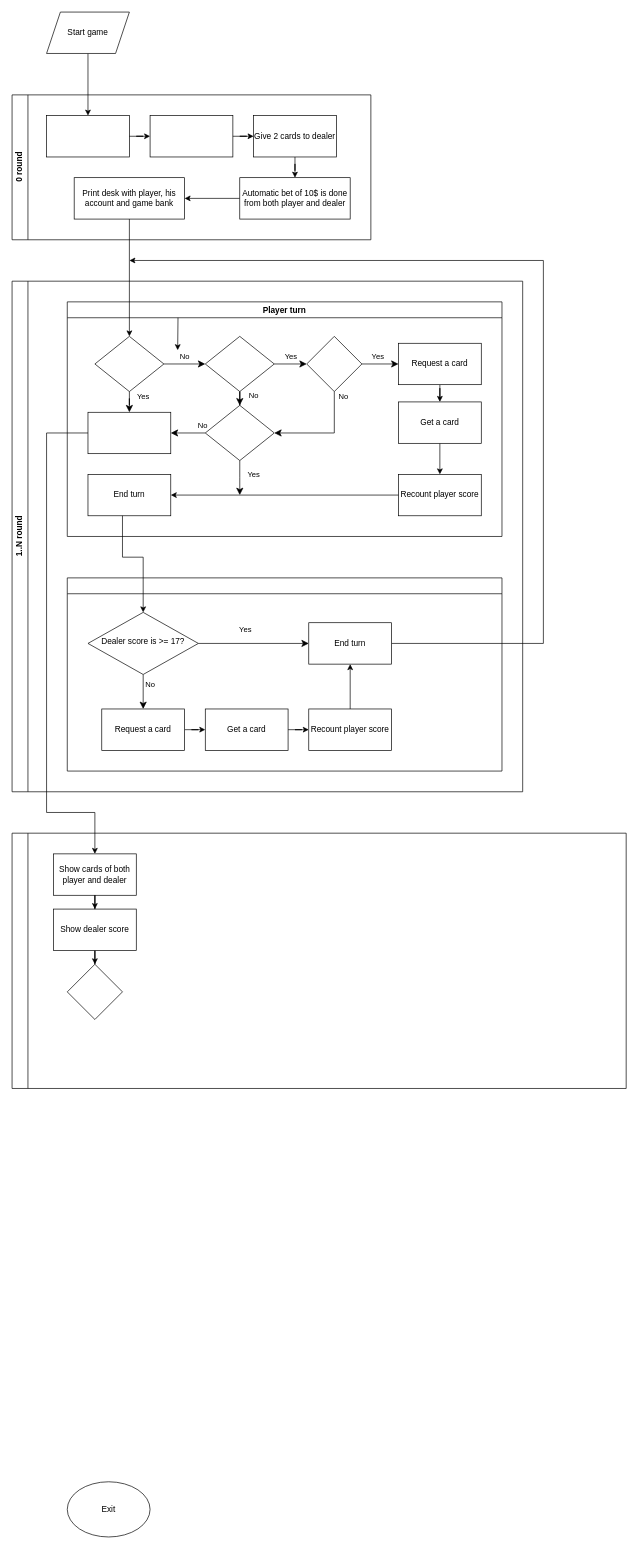
This 638x1549 diagram has some shape labels left out. The box of each missing label's shape, as (x1, y1, x2, y2) in pixels:
Dealer turn: (67, 577, 502, 771)
Draw?: (67, 964, 122, 1019)
Game result: (11, 832, 626, 1088)
Get player name: (46, 115, 129, 157)
Give 2 cards to player: (149, 115, 233, 157)
Player has 2 cards?: (205, 336, 274, 392)
Request a card?: (306, 336, 362, 392)
Show cards: (87, 412, 171, 454)
Show cards?: (94, 336, 164, 392)
Skip turn?: (205, 405, 274, 461)
